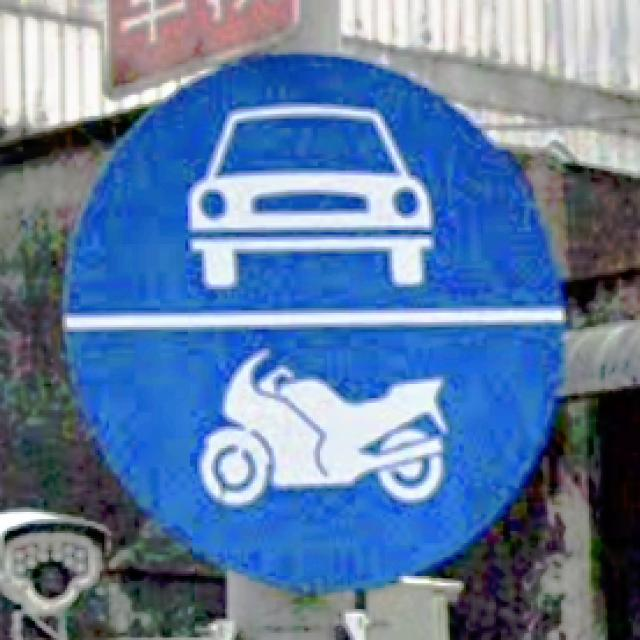carmotorcycle: (66, 56, 561, 590)
